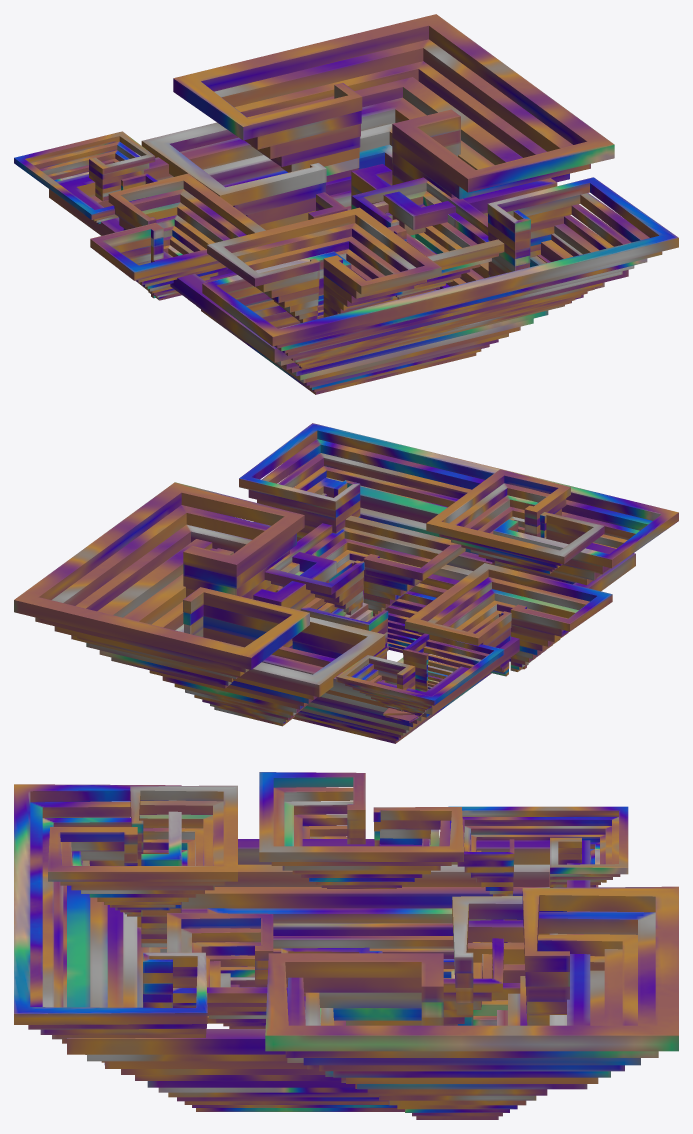
3 views of the same model, one above another, from view 1: azimuth 30°, elevation 25°; view 2: azimuth 150°, elevation 25°; view 3: azimuth 270°, elevation 25° (orthographic). The views are drawn at different scales.
Parts seen in each view (by area): view 1: polySurface138; view 2: polySurface138; view 3: polySurface138.
Part boxes in pixels (<box>): polySurface138: <box>14,14,678,394</box>; polySurface138: <box>14,423,678,743</box>; polySurface138: <box>14,772,678,1119</box>.
Bounding box in the file's own units: 3.1 × 0.9745 × 3.19.
1 material, 1 textured.
